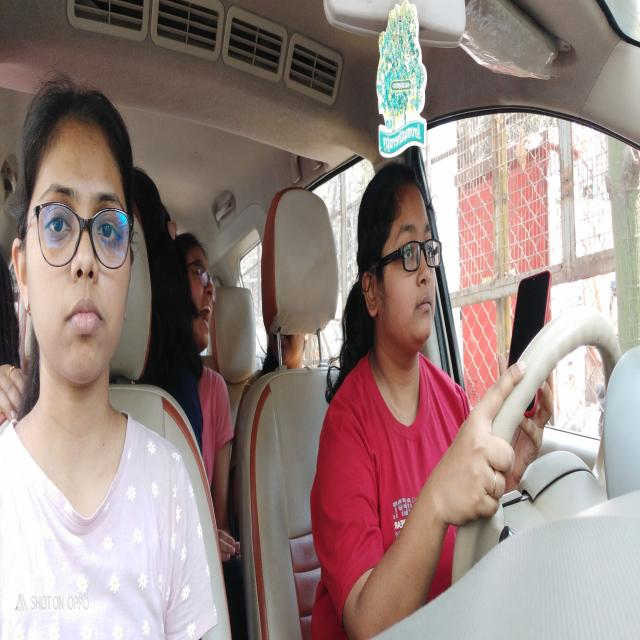mobile: (509, 250, 558, 426)
person: (18, 58, 144, 404), (348, 162, 454, 373), (180, 209, 221, 377)
